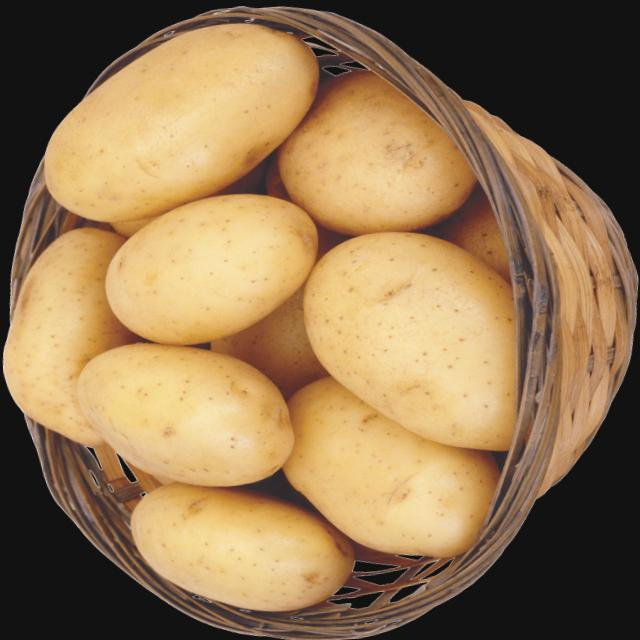potato: (37, 17, 329, 221), (296, 222, 527, 466), (288, 366, 497, 567), (63, 327, 295, 492), (97, 188, 328, 344), (128, 470, 344, 622)
